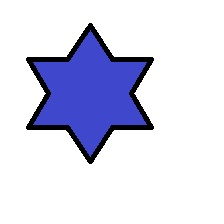star: (24, 22, 153, 164)
